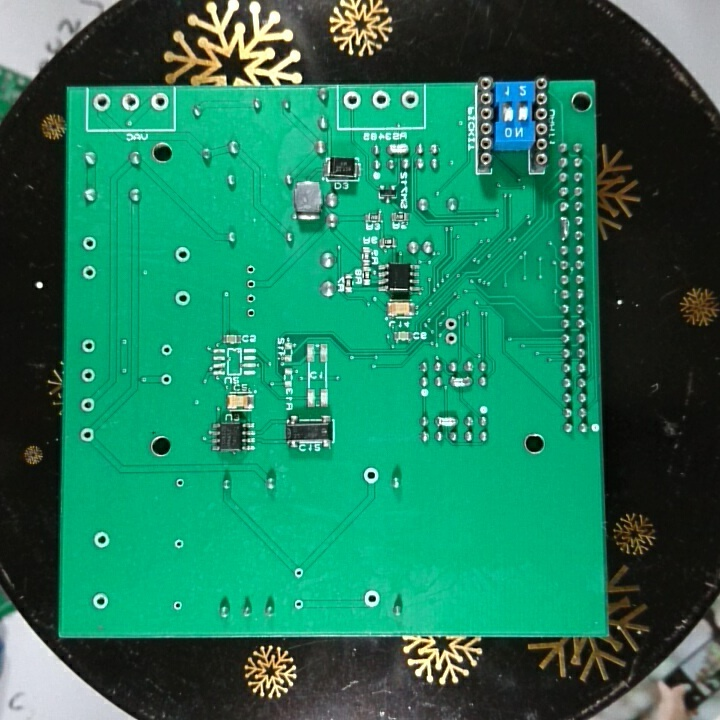F: (117, 92, 142, 115), (171, 287, 194, 310), (369, 89, 393, 111), (91, 92, 113, 114), (148, 91, 171, 112), (91, 530, 112, 552), (171, 244, 192, 266), (399, 90, 421, 111), (362, 587, 380, 612), (90, 592, 111, 612), (79, 262, 99, 283), (342, 91, 362, 112), (362, 466, 382, 486), (80, 335, 99, 356), (78, 425, 97, 445), (77, 397, 98, 415), (80, 235, 101, 252), (79, 366, 97, 384), (171, 535, 188, 553), (159, 341, 176, 359), (243, 306, 262, 322), (443, 315, 459, 331), (444, 332, 461, 347), (291, 564, 306, 580), (290, 596, 305, 612), (243, 276, 259, 291), (173, 473, 186, 491), (159, 371, 173, 387), (243, 292, 259, 305), (244, 263, 259, 276), (171, 598, 183, 613)
P: (447, 372, 476, 390), (384, 141, 413, 157), (557, 214, 572, 243), (432, 412, 459, 428)
